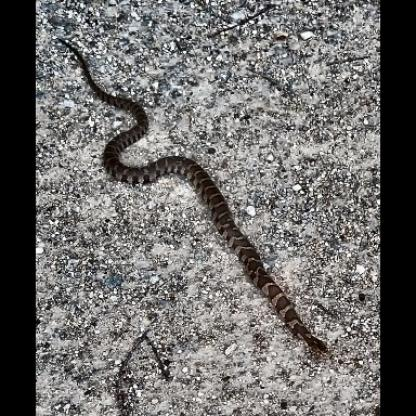Snake: (86, 20, 350, 402)
